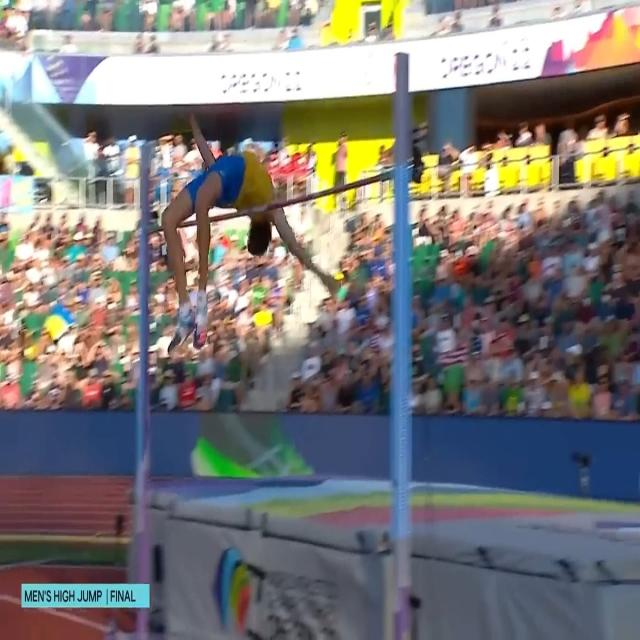jump: (160, 96, 340, 350)
